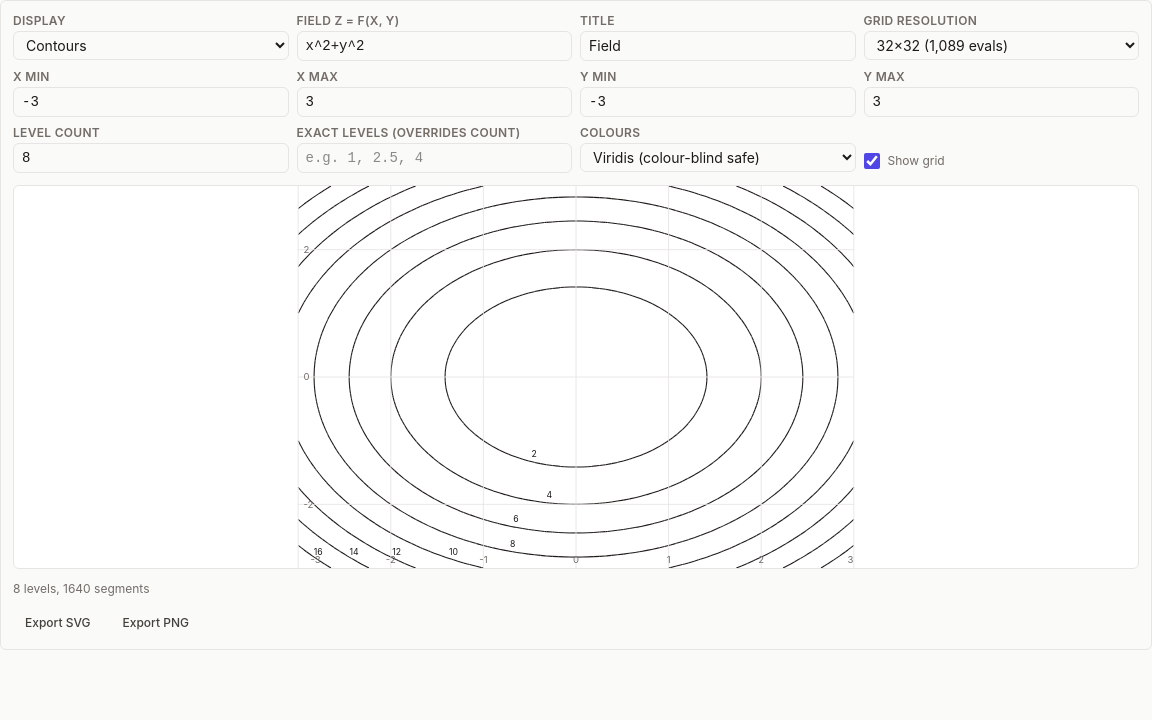
Test case: 2D field view › colours arrows by magnitude with a labelled legend
The width and height of the screenshot is (1152, 720).
Select "Vector arrows" in the dropdown named "Field display" at (151, 46), box [13,31,288,60]
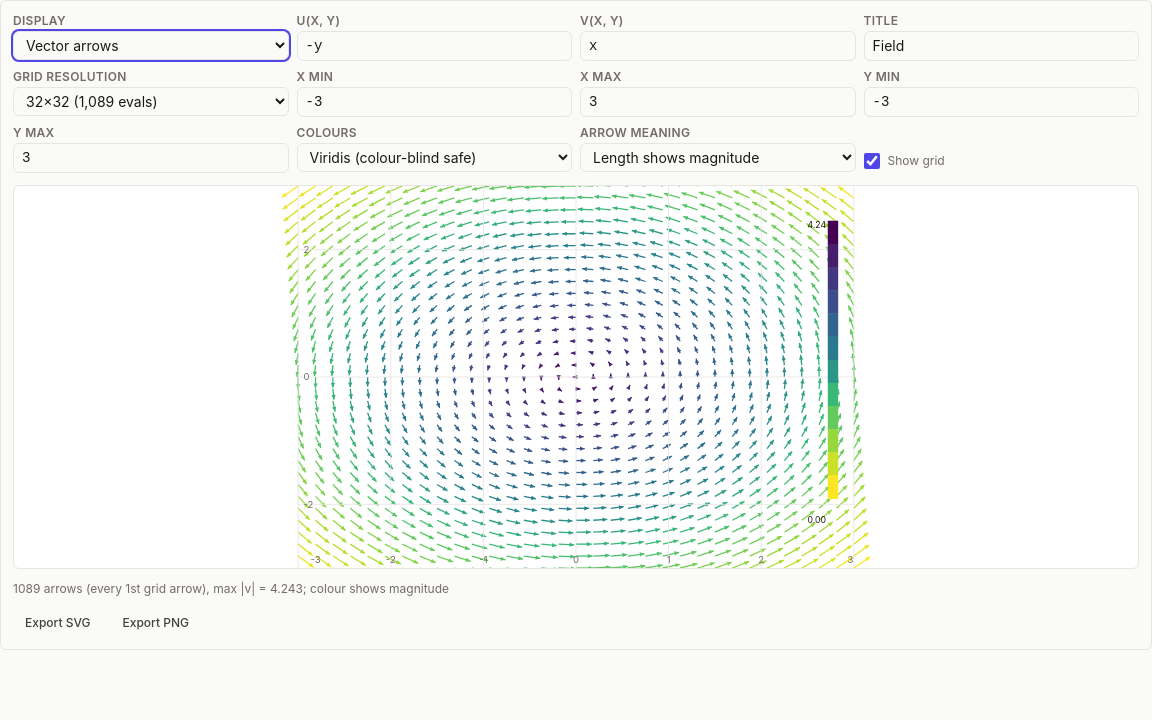
Check: the text with test id "field-summary" shows "colour shows magnitude", box [13,581,449,596]
